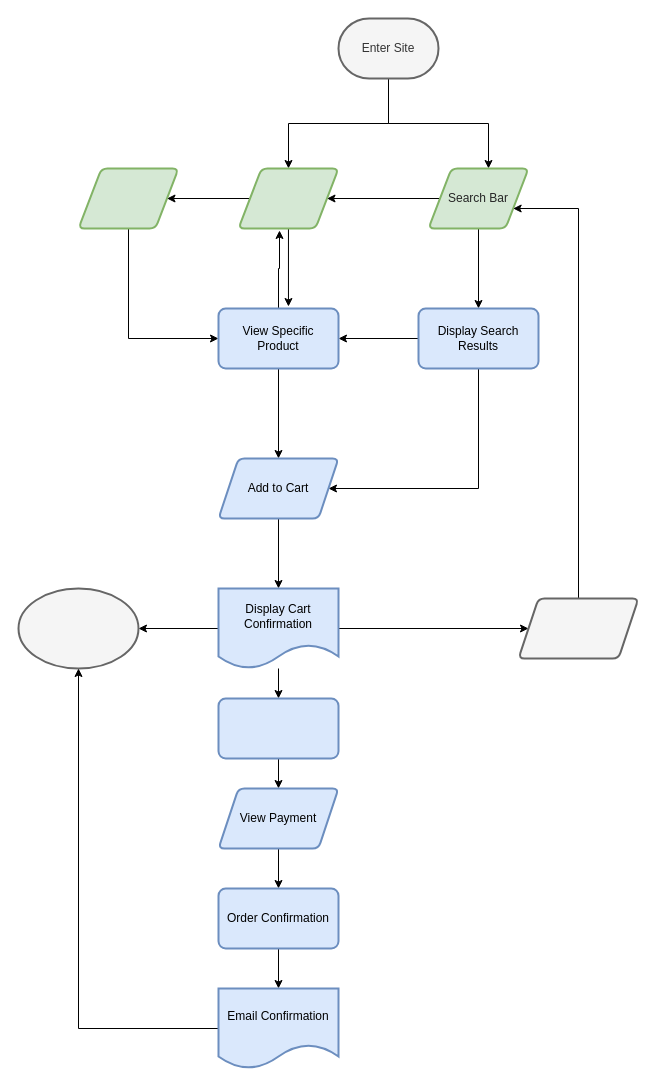
The diagram is 656 pixels wide and 1086 high, and some of its shapes have lost their labels. The box of each missing label's shape, as (x1, y1, x2, y2) in pixels:
Continue Shopping: (517, 597, 639, 659)
Leave: (17, 587, 139, 669)
Navigate Home Page: (77, 167, 179, 229)
View Cart: (217, 697, 339, 759)
View Home Page: (237, 167, 339, 229)
